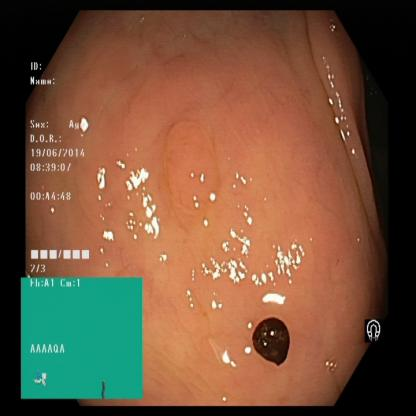Labels: (26, 56, 113, 277), (19, 272, 147, 400), (361, 307, 387, 351)
Polyps: (153, 111, 236, 228)
